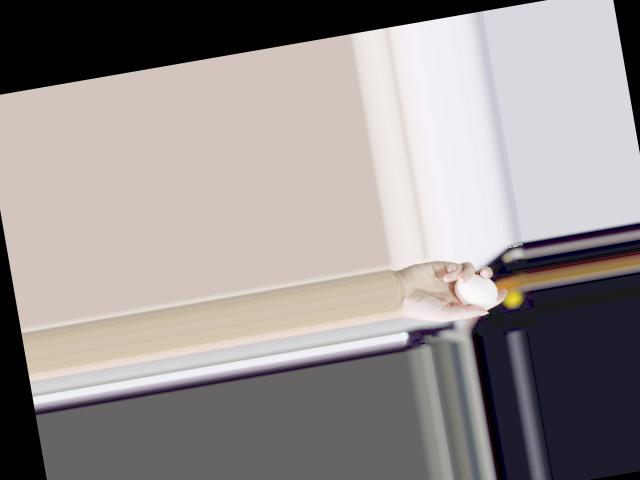egg: (453, 270, 500, 311)
